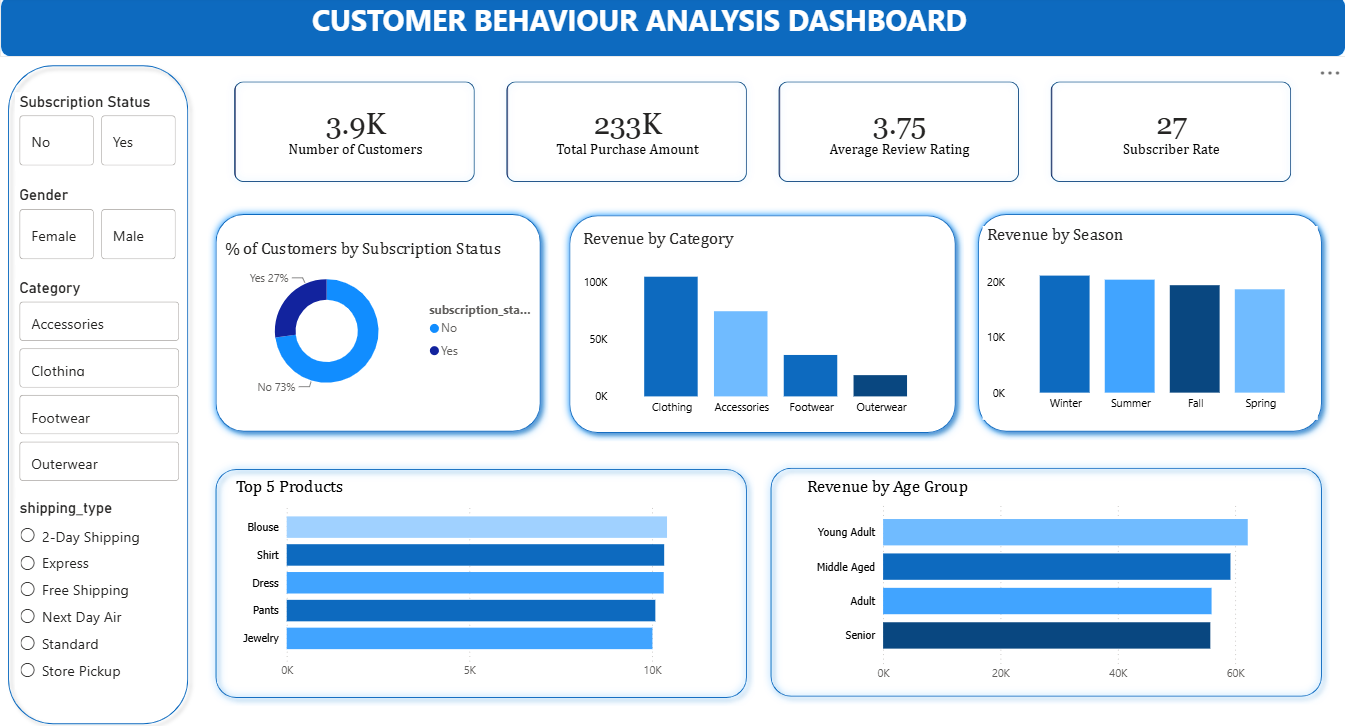

What the dashboard file says about the page in this screenshot:
{"tool":"powerbi","page":{"name":"Page 1","canvas":[1500,820],"ordinal":0},"visuals":[{"type":"cardVisual","fields":{"Data":["customer_behaviour customer.Number of Customers","customer_behaviour customer.Total Purchase Amount","customer_behaviour customer.Average Review Rating","customer_behaviour customer.Subscriber Rate"]},"box":[245.1,79.4,1211.6,144.8],"z":0},{"type":"shape","box":[231.2,234,380.2,260.4],"z":0,"group":"g2"},{"type":"shape","box":[1080.7,234,401.1,260.4],"z":0,"group":"g3"},{"type":"shape","box":[625.3,235.4,448.4,260.4],"z":0,"group":"g1"},{"type":"clusteredColumnChart","title":"Revenue by Season","fields":{"Y":["Sum(customer_behaviour customer.purchase_amount)"],"Category":["customer_behaviour customer.season"]},"box":[1094.6,256.3,373.2,215.9],"z":1000,"group":"g3"},{"type":"clusteredColumnChart","title":"Revenue by Category","fields":{"Category":["customer_behaviour customer.category"],"Y":["Sum(customer_behaviour customer.purchase_amount)"]},"box":[644.9,260.5,404.7,215.9],"z":1000,"group":"g1"},{"type":"donutChart","title":"% of Customers by Subscription Status","fields":{"Category":["customer_behaviour customer.subscription_status"],"Y":["CountNonNull(customer_behaviour customer.customer_id)"]},"box":[244.8,271.6,353,185.2],"z":1000,"group":"g2"},{"type":"group","id":"g1","title":"Group 1","box":[625.3,235.4,448.4,260.4],"z":3000},{"type":"shape","box":[0,68.2,218.6,752],"z":4000},{"type":"advancedSlicerVisual","title":"Subscription Status","fields":{"Values":["customer_behaviour customer.subscription_status"]},"box":[16.7,107.2,185.2,87.7],"z":5000},{"type":"advancedSlicerVisual","title":"Gender","fields":{"Values":["customer_behaviour customer.gender"]},"box":[16.7,211.7,185.2,87.7],"z":6000},{"type":"advancedSlicerVisual","fields":{"Values":["customer_behaviour customer.category"]},"box":[16.7,314.7,188,232.6],"z":7000},{"type":"listSlicer","fields":{"Values":["customer_behaviour customer.shipping_type"]},"box":[16.7,559.9,185.2,213.1],"z":8000},{"type":"group","id":"g2","title":"Group 2","box":[231.2,234,380.2,260.4],"z":9000},{"type":"group","id":"g3","title":"Group 3","box":[1080.7,234,401.1,260.4],"z":10000},{"type":"shape","box":[231.2,518.1,610,273],"z":11000,"group":"g4"},{"type":"clusteredBarChart","title":"Top 5 Products","fields":{"Y":["Sum(customer_behaviour customer.purchase_amount)"],"Category":["customer_behaviour customer.item_purchased"]},"box":[257.4,536.1,565.4,234],"z":12000,"group":"g4"},{"type":"shape","box":[849.5,516.7,632.3,273],"z":13000},{"type":"clusteredBarChart","title":"Revenue by Age Group","fields":{"Y":["Sum(customer_behaviour customer.purchase_amount)"],"Category":["customer_behaviour customer.age_group"]},"box":[894.1,536.2,562.6,236.8],"z":14000},{"type":"shape","box":[0,0,1499.9,68.2],"z":14001},{"type":"group","id":"g4","title":"Group 4","box":[231.2,518.1,610,273],"z":14002},{"type":"textbox","box":[341.2,0,742.3,68.2],"z":14003}]}

Visuals, with their boxes in screenshot pixels (x1, y1, x2, y2), scaled from the page's 1500x820 canvas onto the 1345x726 screenshot:
cardVisual - customer_behaviour customer.Number of Customers x customer_behaviour customer.Total Purchase Amount: <bbox>220, 70, 1306, 198</bbox>
shape: <bbox>207, 207, 548, 438</bbox>
shape: <bbox>969, 207, 1329, 438</bbox>
shape: <bbox>561, 208, 963, 439</bbox>
"Revenue by Season" clusteredColumnChart: <bbox>981, 227, 1316, 418</bbox>
"Revenue by Category" clusteredColumnChart: <bbox>578, 231, 941, 422</bbox>
"% of Customers by Subscription Status" donutChart: <bbox>220, 240, 536, 404</bbox>
"Group 1" group: <bbox>561, 208, 963, 439</bbox>
shape: <bbox>0, 60, 196, 725</bbox>
"Subscription Status" advancedSlicerVisual: <bbox>15, 95, 181, 173</bbox>
"Gender" advancedSlicerVisual: <bbox>15, 187, 181, 265</bbox>
advancedSlicerVisual - customer_behaviour customer.category: <bbox>15, 279, 184, 485</bbox>
listSlicer - customer_behaviour customer.shipping_type: <bbox>15, 496, 181, 684</bbox>
"Group 2" group: <bbox>207, 207, 548, 438</bbox>
"Group 3" group: <bbox>969, 207, 1329, 438</bbox>
shape: <bbox>207, 459, 754, 700</bbox>
"Top 5 Products" clusteredBarChart: <bbox>231, 475, 738, 682</bbox>
shape: <bbox>762, 457, 1329, 699</bbox>
"Revenue by Age Group" clusteredBarChart: <bbox>802, 475, 1306, 684</bbox>
shape: <bbox>0, 0, 1344, 60</bbox>
"Group 4" group: <bbox>207, 459, 754, 700</bbox>
textbox: <bbox>306, 0, 972, 60</bbox>
